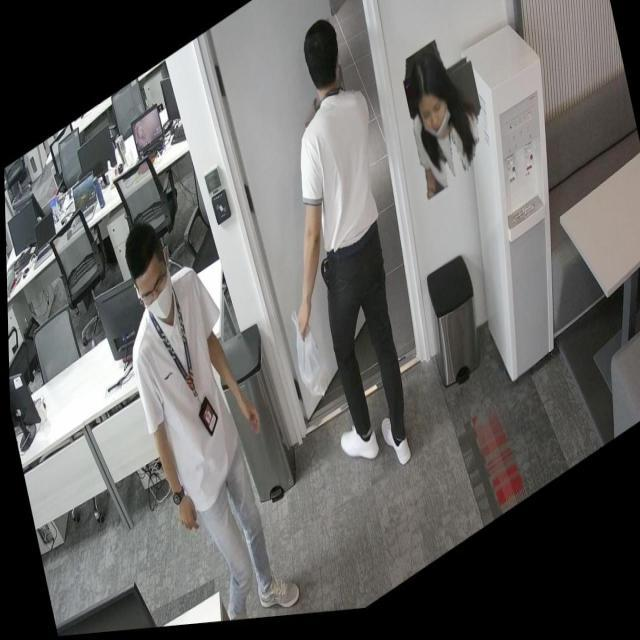hairnet: (419, 74, 451, 140)
